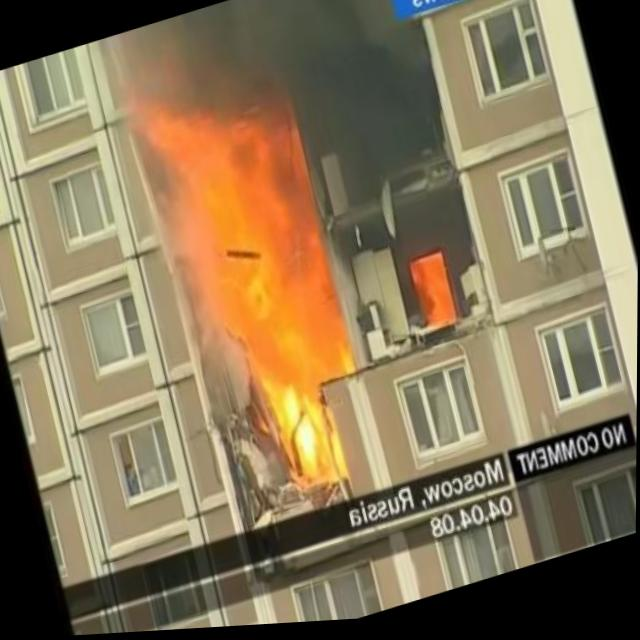fire: (138, 58, 380, 507), (405, 256, 458, 341)
